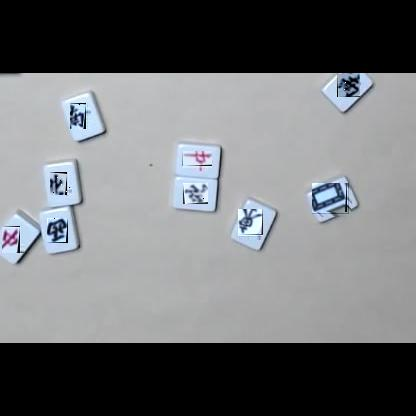1z: (238, 210, 263, 240)
2z: (337, 73, 360, 97), (71, 103, 91, 129)
3z: (47, 218, 68, 243)
4z: (183, 183, 208, 204), (51, 172, 72, 195)
5z: (313, 184, 352, 217)
7z: (3, 226, 25, 253), (182, 152, 212, 171)
